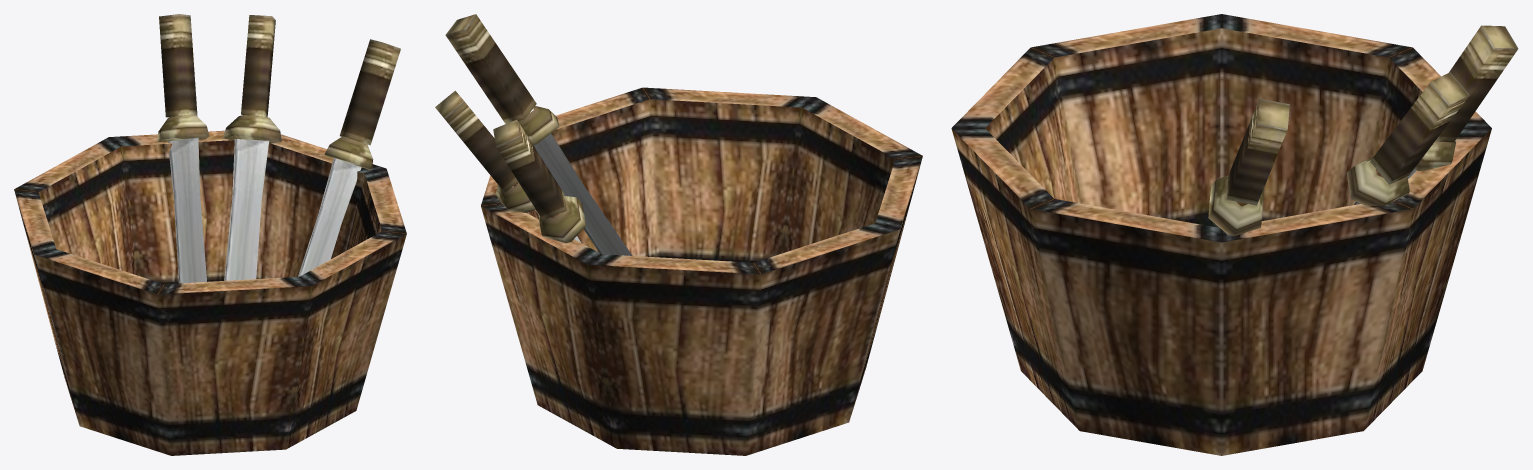
The model's file is bucket.glb.
The picture shows the model from 3 angles, left to right: view 1: azimuth 30°, elevation 25°; view 2: azimuth 150°, elevation 25°; view 3: azimuth 270°, elevation 25°; orthographic projection. The views are drawn at different scales.
Parts seen in each view (by area): view 1: bucket; view 2: bucket; view 3: bucket.
Boxes of the visible parts, <box> form: bucket: <box>14,14,406,455</box>; bucket: <box>435,14,922,455</box>; bucket: <box>951,14,1518,455</box>.
Size of the model in its own units: 1.34 by 1 by 1.31.
Materials: 1 (1 with a texture image).
